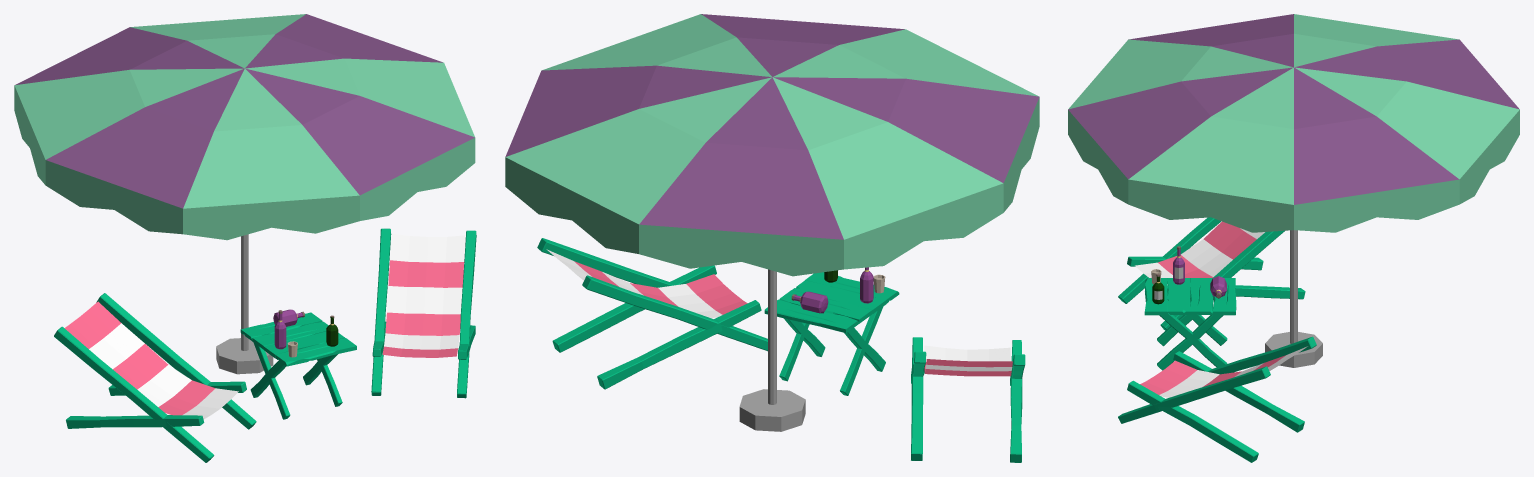
The model's file is summer scene.fbx.
3 views of the same model, side by side, from view 1: azimuth 30°, elevation 25°; view 2: azimuth 150°, elevation 25°; view 3: azimuth 270°, elevation 25° (orthographic). The views are drawn at different scales.
Parts seen in each view (by area): view 1: Plane.001; view 2: Plane.001; view 3: Plane.001.
Part boxes in pixels (x1=…): Plane.001: x1=14, y1=14, x2=476, y2=462; Plane.001: x1=505, y1=14, x2=1039, y2=462; Plane.001: x1=1068, y1=14, x2=1519, y2=462.
Size of the model in its own units: 900 by 614 by 851.
